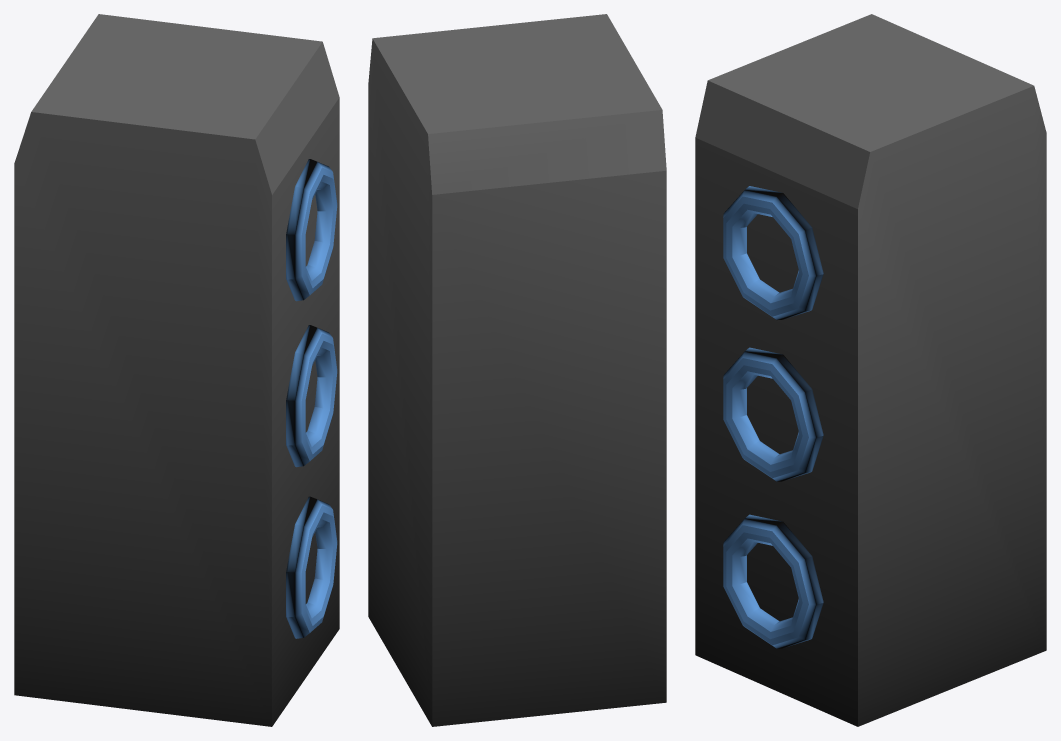
The model's file is cornerstone.fbx.
The picture shows the model from 3 angles, left to right: view 1: azimuth 30°, elevation 25°; view 2: azimuth 150°, elevation 25°; view 3: azimuth 270°, elevation 25°; orthographic projection. The views are drawn at different scales.
Visible parts, largest first — view 1: Torus.001; view 2: Torus.001; view 3: Torus.001.
Part boxes in pixels (<box>): Torus.001: <box>14,14,339,726</box>; Torus.001: <box>368,14,666,726</box>; Torus.001: <box>695,14,1046,726</box>.
Bounding box in the file's own units: 312 × 560 × 313.
